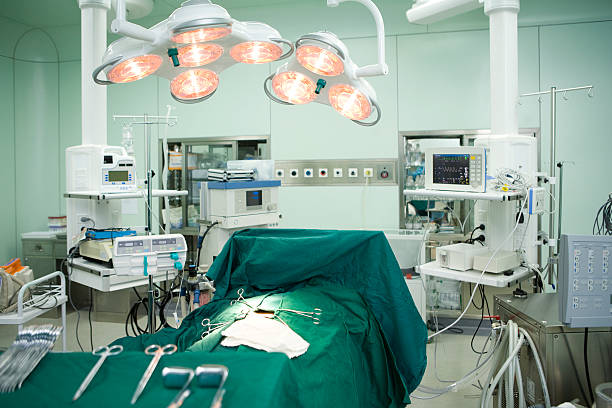bedside_monitor: (424, 149, 486, 194), (244, 188, 266, 209)
electrosurgical_unit: (79, 224, 140, 266)
iv_pole: (516, 83, 596, 293), (112, 103, 179, 338)
medical_drawer: (18, 226, 67, 280)
operating_bed: (1, 222, 426, 408)
surgical_instrument: (1, 323, 64, 394), (162, 363, 233, 408), (131, 343, 179, 405), (73, 345, 124, 401), (276, 306, 323, 326), (200, 317, 235, 338), (229, 288, 259, 312)
surgical_light: (93, 1, 292, 104), (265, 1, 391, 126)
syringe_pump: (112, 232, 190, 275)
utility_cart: (1, 269, 68, 354)
